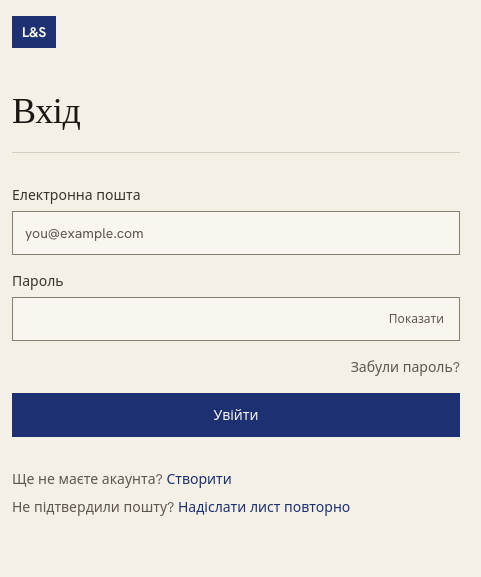
Scenario: LoginPage › refuses to submit an empty form and says which field is missing
The image size is (481, 577).
Click the button "Увійти". click: (236, 415)
box: [12,393,460,437]
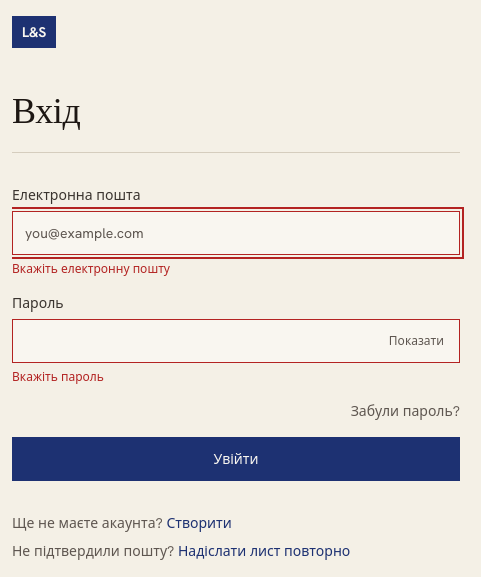
expect the text "Вкажіть електронну пошту" is shown: met, box [12,261,170,277]
expect the text "Вкажіть пароль" is shown: met, box [12,369,104,385]
